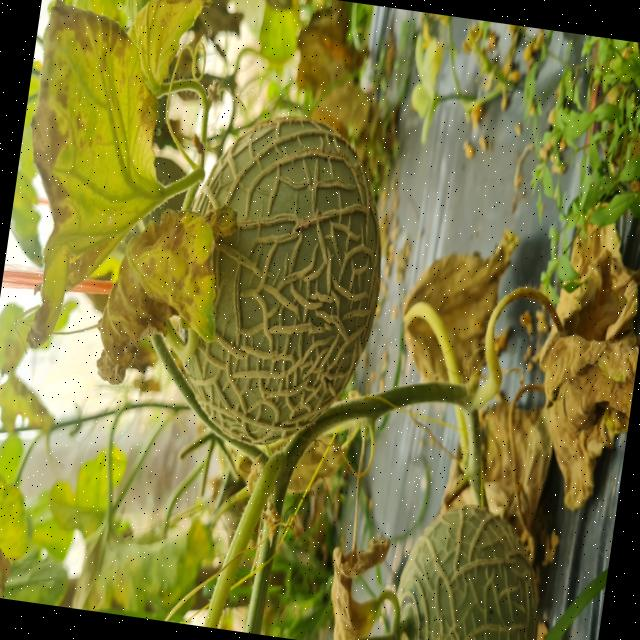melon: (184, 116, 381, 445), (397, 505, 537, 640)
